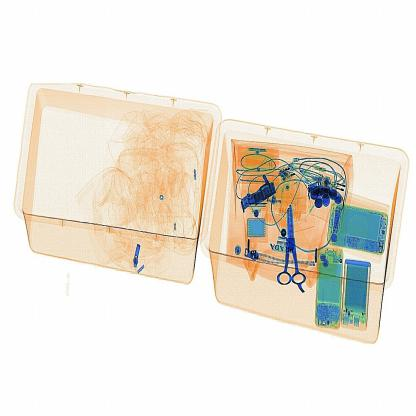gun: (272, 205, 312, 295)
